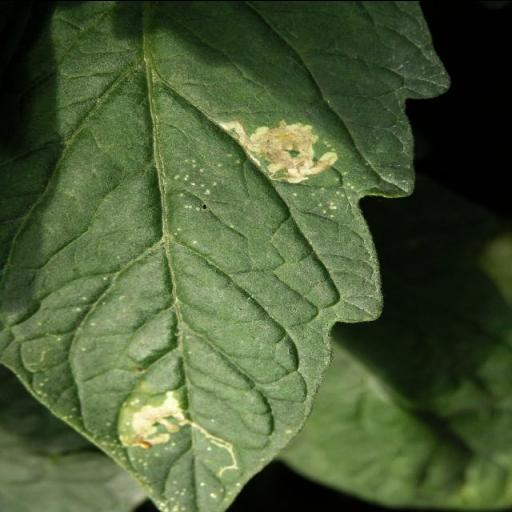Leaf Miner: (0, 0, 446, 512)
